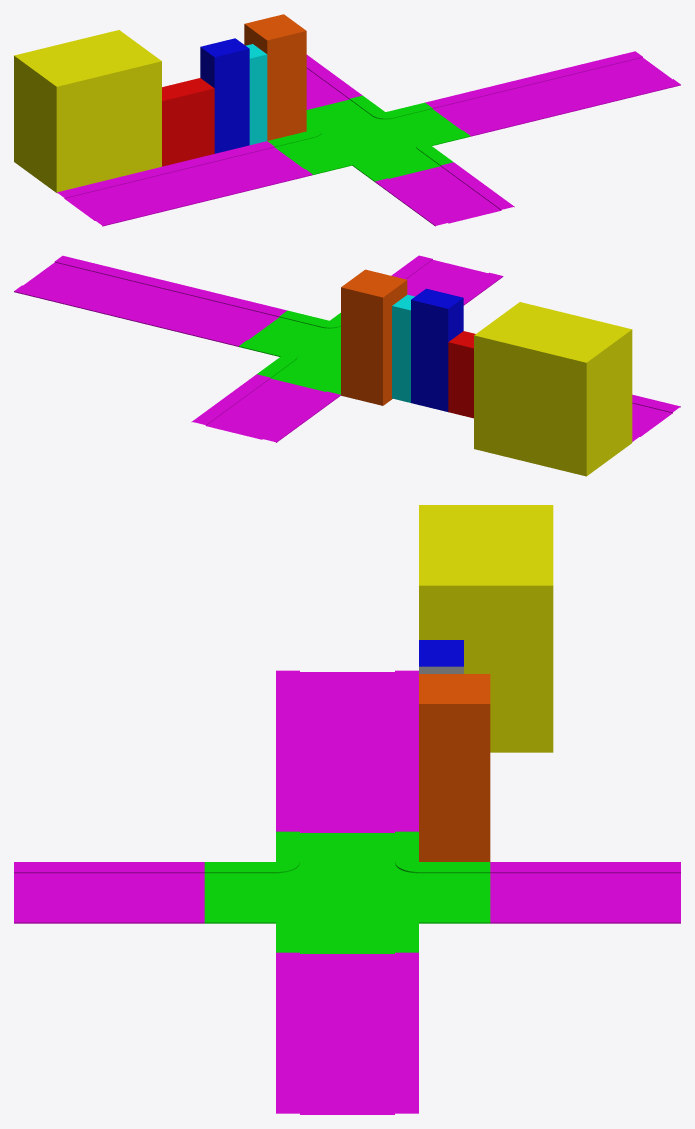
Rendered from Test_Moduli.fbx.
3 renders of one model, top to bottom at view 1: azimuth 30°, elevation 25°; view 2: azimuth 150°, elevation 25°; view 3: azimuth 270°, elevation 25°, orthographic. The views are drawn at different scales.
Parts seen in each view (by area): view 1: Street_A6; view 2: Street_A6; view 3: Street_A6.
Part boxes in pixels (x1,y1,x2,y2): Street_A6: (14, 14, 680, 226); Street_A6: (14, 255, 680, 476); Street_A6: (14, 505, 680, 1114).
Bounding box in the file's own units: 132 × 23.19 × 84.
